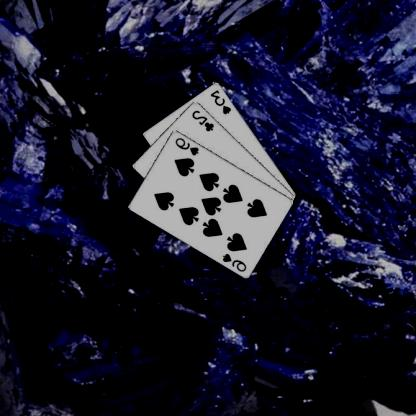2C: (191, 107, 217, 133)
3S: (210, 87, 234, 115)
9S: (222, 250, 250, 273), (174, 135, 202, 156)
